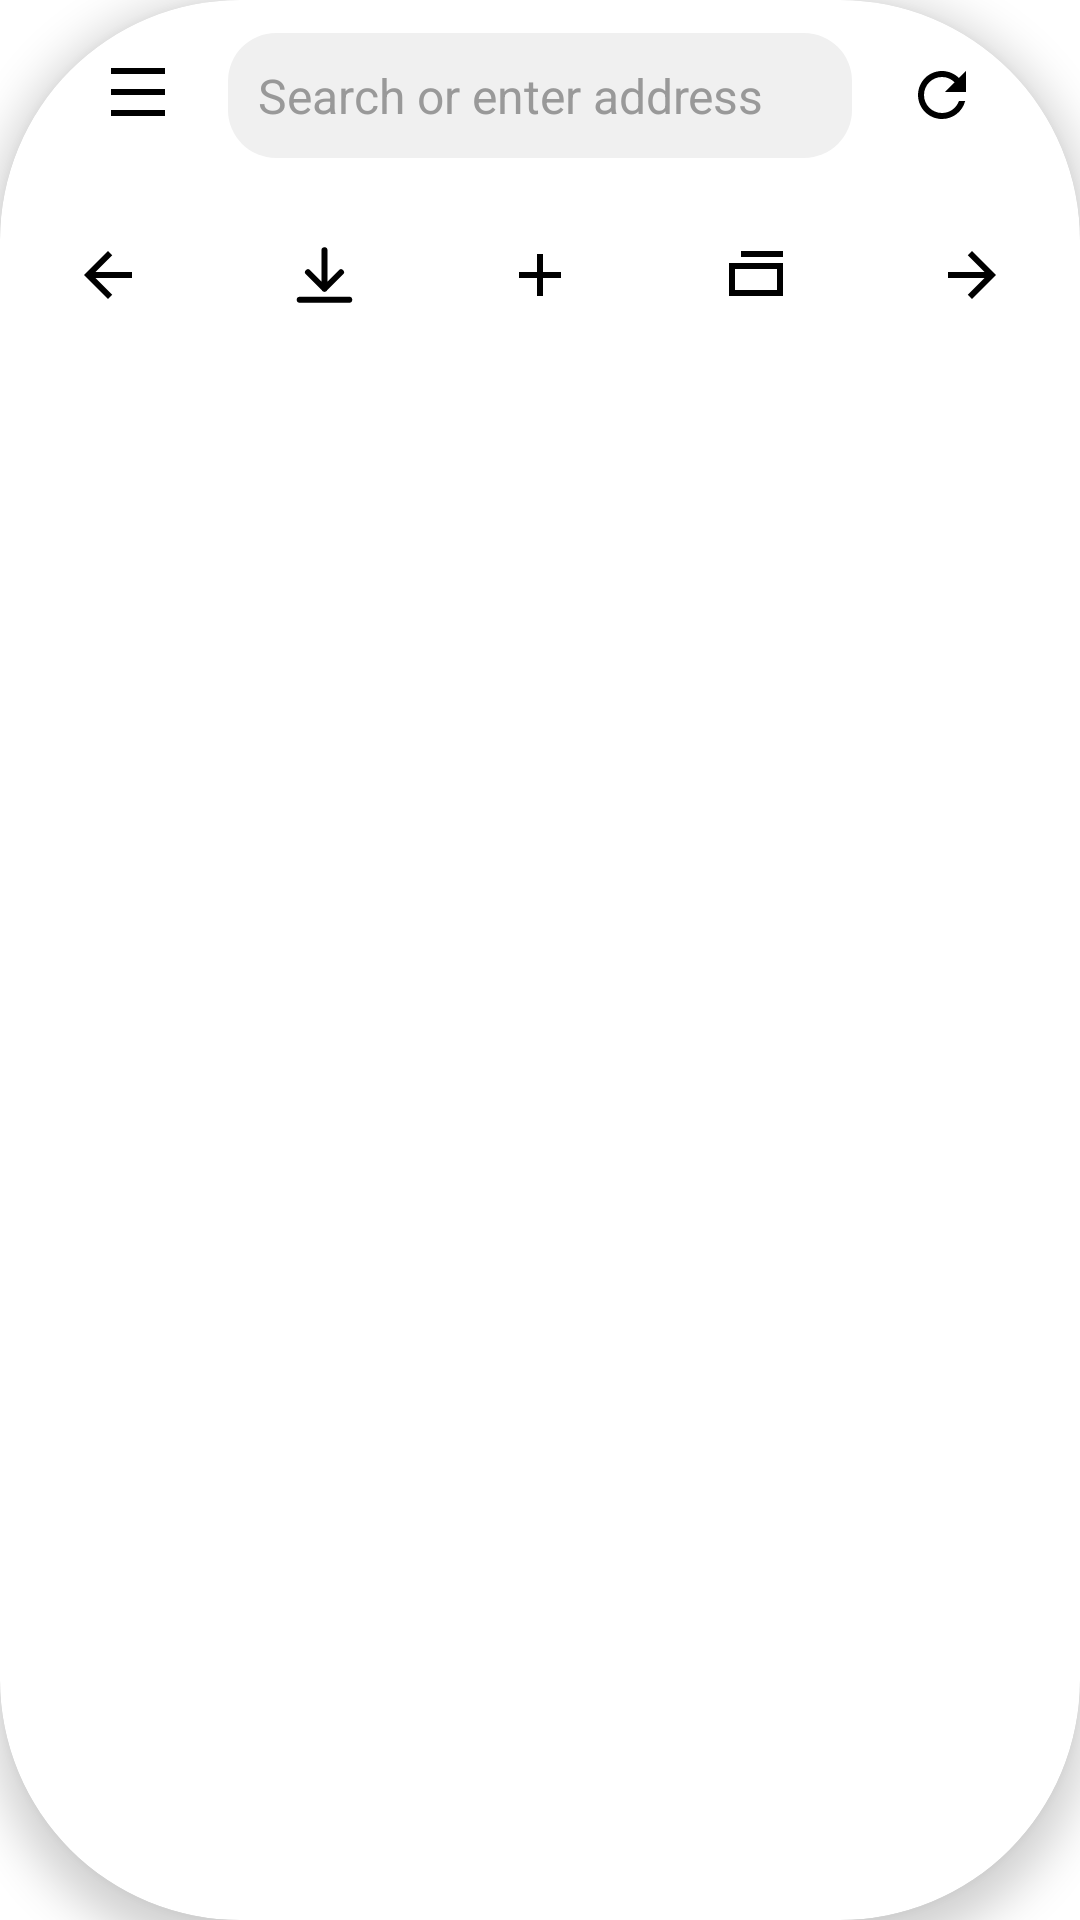

Where to tap for icons on this 1080*1920 app screen, as [x,y]:
Back: [108,275]
Downloads: [324,275]
Forward: [972,275]
New Tab: [540,275]
Refresh: [942,95]
Tabs: [756,273]
